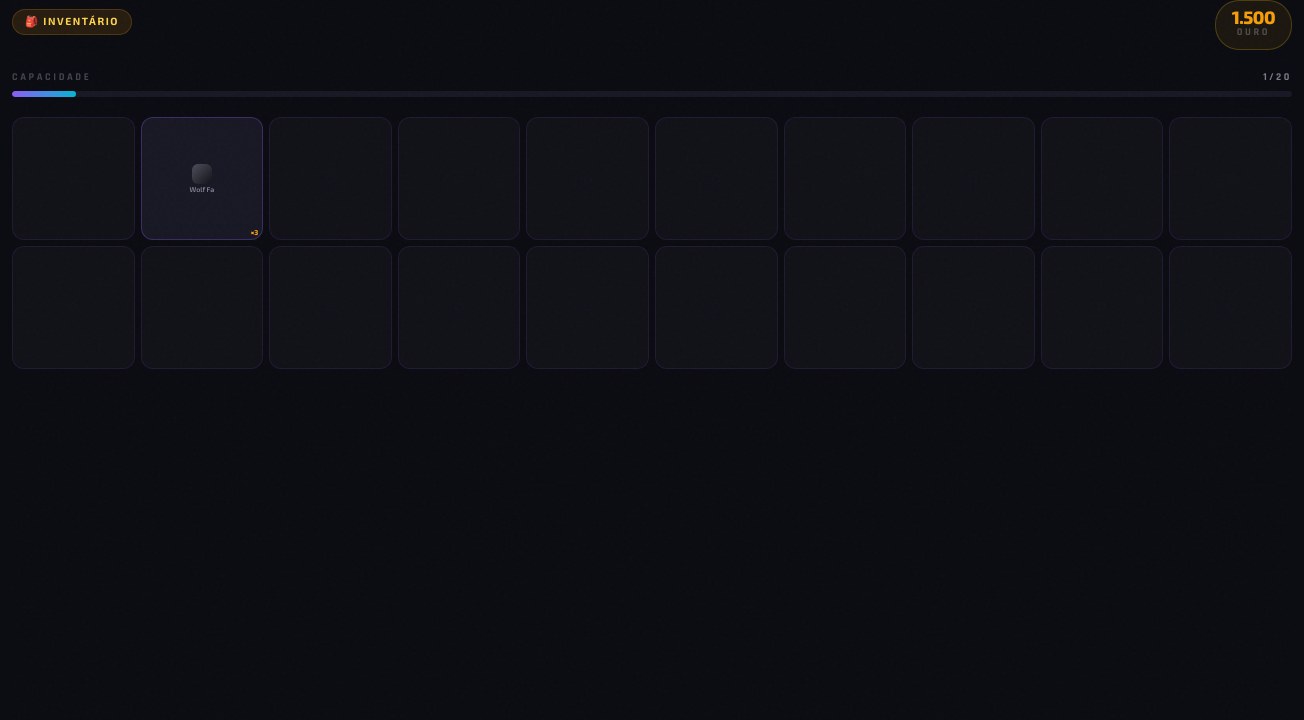
Test: InventoryPanel › material não-equipável exibe mensagem de não-equipável
The image size is (1304, 720).
Click the button titled "Wolf Fang". click: coordinates (202, 179)
box: [141,117,263,240]
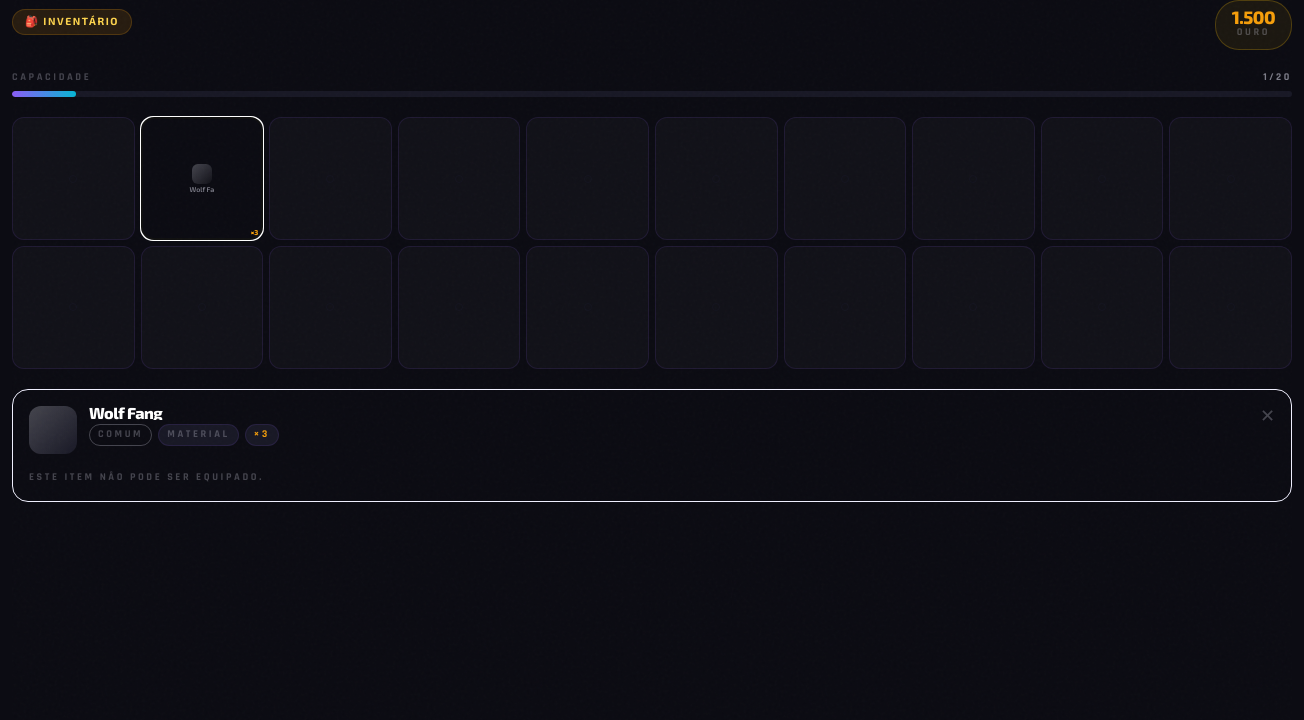
Expected: the text "Este item não pode ser equipado." is shown, [29,470,264,484]
